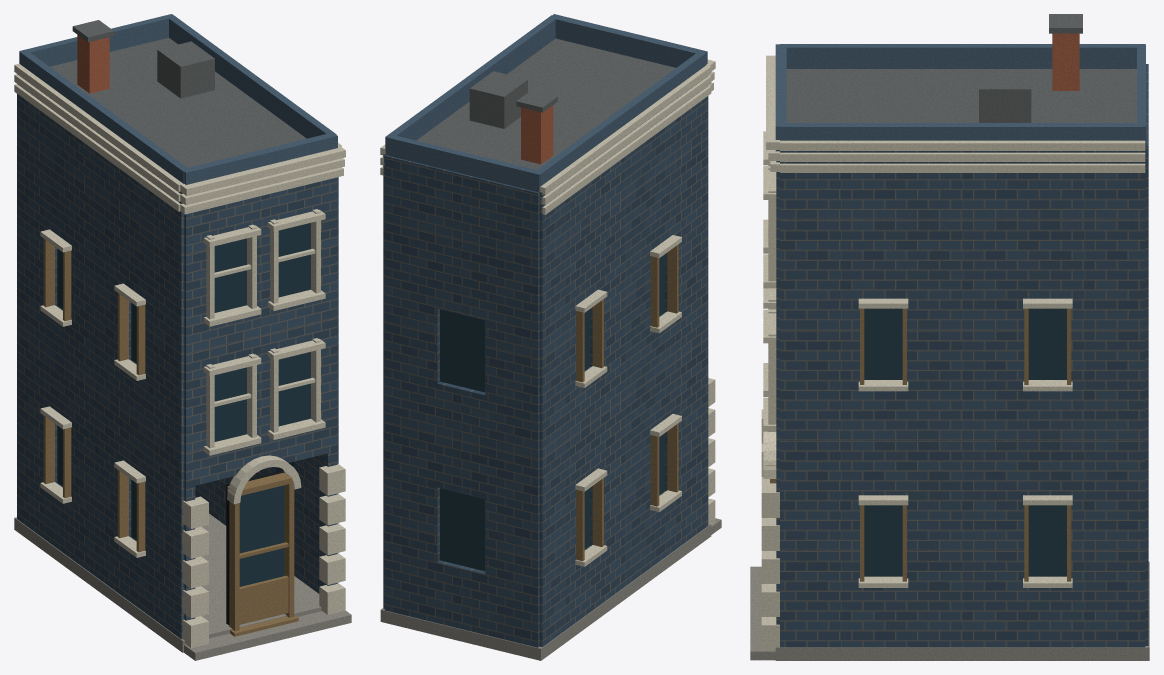
The model's file is OFFC12_lod2.glb.
3 renders of one model, left to right at view 1: azimuth 30°, elevation 25°; view 2: azimuth 150°, elevation 25°; view 3: azimuth 270°, elevation 25°, orthographic. The views are drawn at different scales.
Parts seen in each view (by area): view 1: OFFC12_LOD2; view 2: OFFC12_LOD2; view 3: OFFC12_LOD2.
Boxes of the visible parts, x1,y1,x2,y2 form: OFFC12_LOD2: (14, 14, 351, 660); OFFC12_LOD2: (380, 14, 721, 660); OFFC12_LOD2: (750, 14, 1149, 660).
Size of the model in its own units: 3.71 by 10.45 by 6.57.
9 materials, 7 textured.
